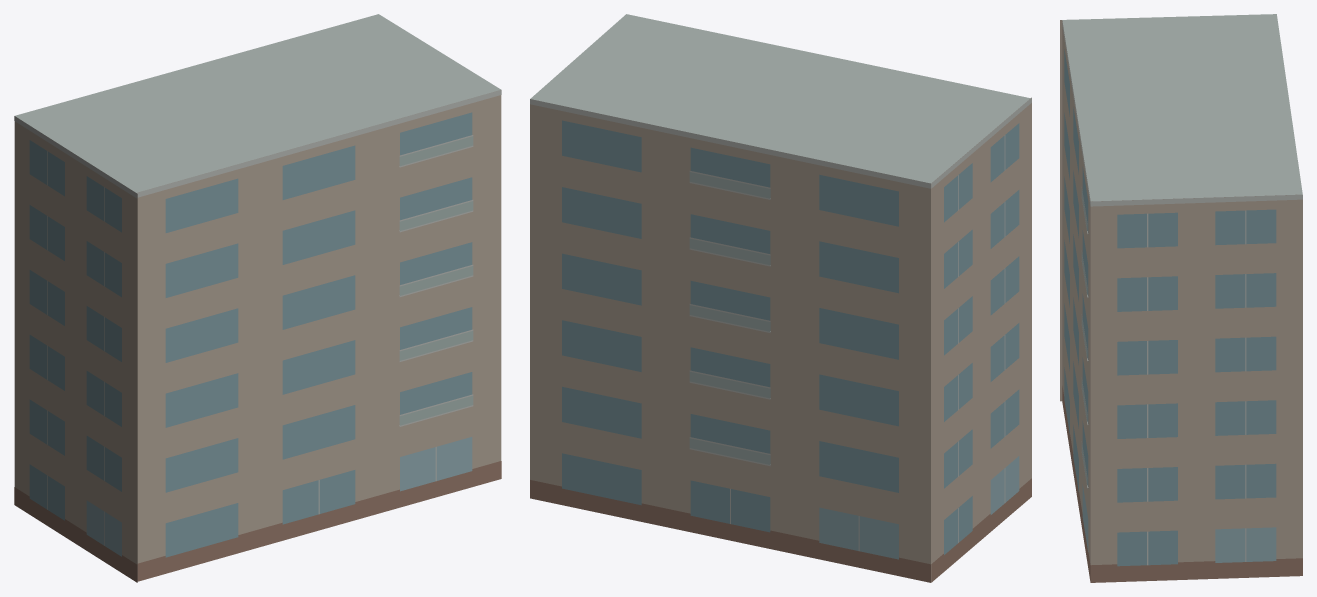
Rendered from survey-upis-32746607.glb.
The picture shows the model from 3 angles, left to right: view 1: azimuth 30°, elevation 25°; view 2: azimuth 150°, elevation 25°; view 3: azimuth 270°, elevation 25°; orthographic projection. The views are drawn at different scales.
Parts seen in each view (by area): view 1: survey-upis-32746607.tmp; view 2: survey-upis-32746607.tmp; view 3: survey-upis-32746607.tmp.
Part boxes in pixels (x1,y1,x2,y2): survey-upis-32746607.tmp: (14, 14, 501, 582); survey-upis-32746607.tmp: (530, 14, 1031, 582); survey-upis-32746607.tmp: (1060, 14, 1302, 582).
Size of the model in its own units: 19.3 by 18.3 by 10.56.
